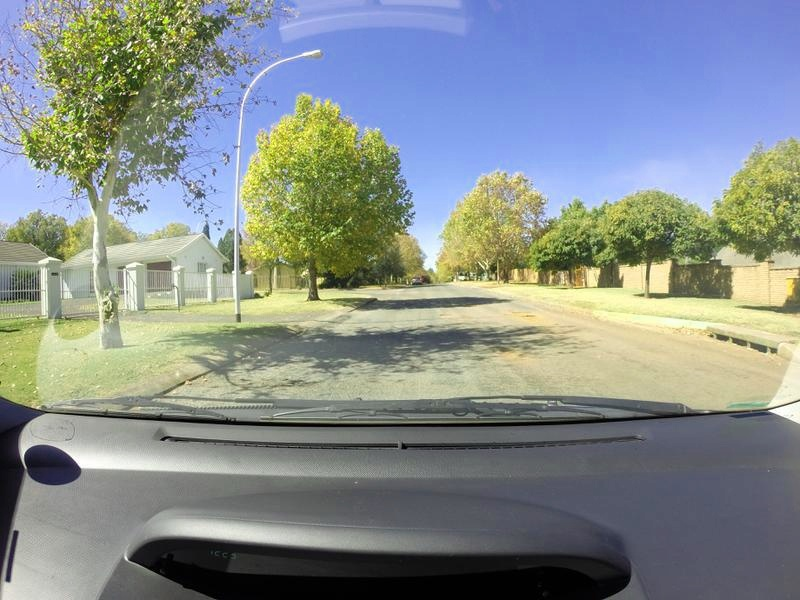pothole: (522, 311, 538, 318)
